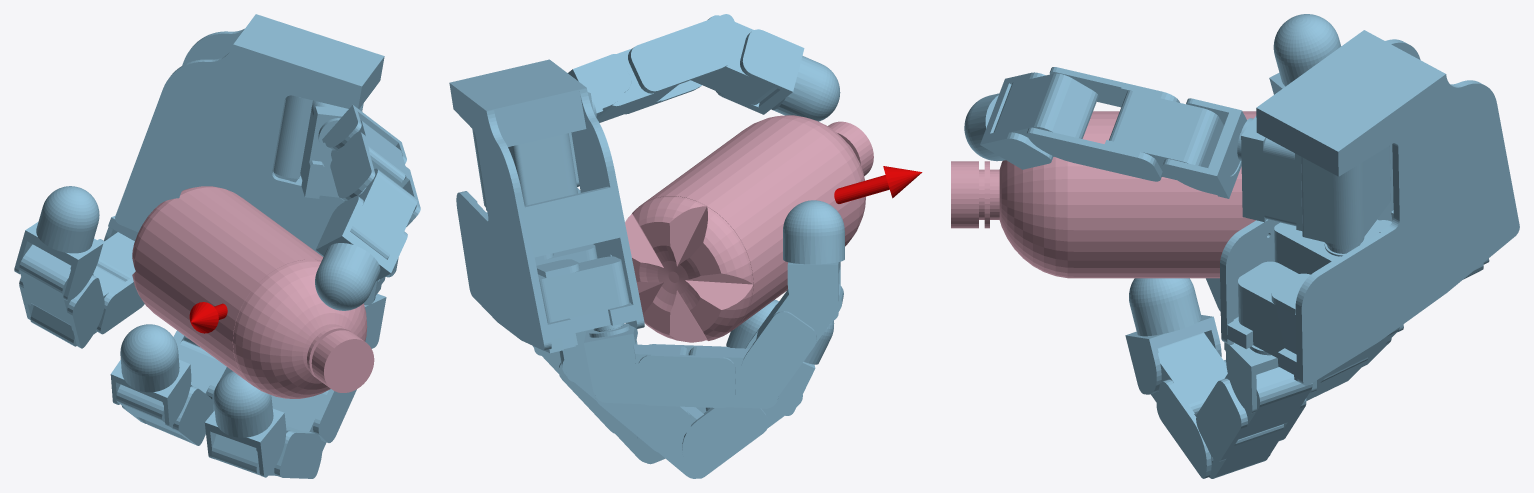
3 views of the same model, side by side, from view 1: azimuth 30°, elevation 25°; view 2: azimuth 150°, elevation 25°; view 3: azimuth 270°, elevation 25° (orthographic). The views are drawn at different scales.
Visible parts, largest first — view 1: world, water_bottle.stl; view 2: world, water_bottle.stl; view 3: world, water_bottle.stl.
Part boxes in pixels (x1,y1,x2,y2): world: [14, 14, 420, 478]; water_bottle.stl: [132, 186, 374, 398]; world: [449, 14, 922, 478]; water_bottle.stl: [625, 115, 873, 342]; world: [964, 14, 1519, 478]; water_bottle.stl: [951, 111, 1256, 278].
Size of the model in its own units: 0.1797 by 0.176 by 0.2047.
